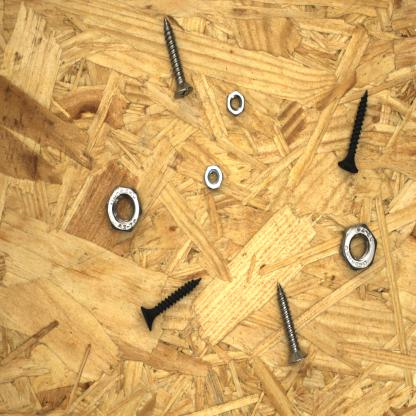screw: (138, 274, 205, 335), (335, 85, 372, 175), (160, 11, 196, 103), (275, 278, 310, 368)
